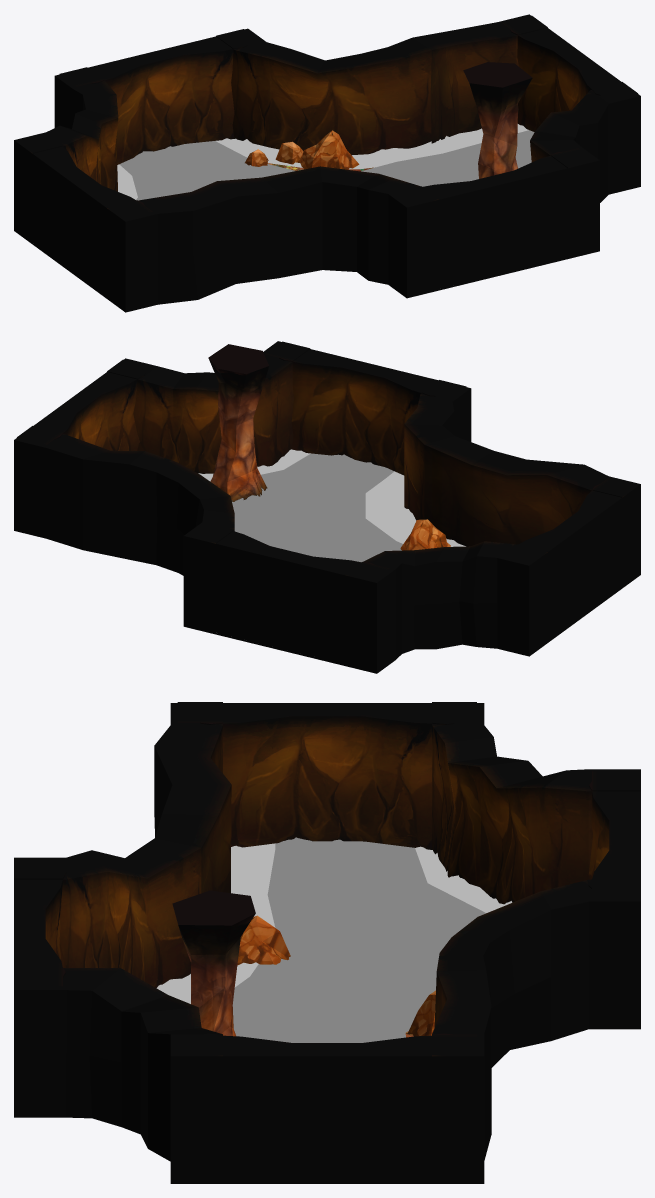
Rendered from Dungeon_062_RoadX_001.fbx.
3 views of the same model, one above another, from view 1: azimuth 30°, elevation 25°; view 2: azimuth 150°, elevation 25°; view 3: azimuth 270°, elevation 25° (orthographic). The views are drawn at different scales.
Visible parts, largest first — view 1: Dun_062_RoadX_001_wall, Dun_062_Door_002 (×4), Dun_062_RoadX_001_Nav, Dungeon_062_Object_04_Pillar, Dun_062_RoadX_001_shadow, Dun_062_Object_100; view 2: Dun_062_RoadX_001_wall, Dun_062_Door_002 (×4), Dun_062_RoadX_001_Nav, Dungeon_062_Object_04_Pillar, Dun_062_RoadX_001_shadow, Dungeon_062_Object_03_Rock; view 3: Dun_062_RoadX_001_wall, Dun_062_Door_002 (×4), Dun_062_RoadX_001_Nav, Dungeon_062_Object_04_Pillar, Dun_062_RoadX_001_shadow, Dungeon_062_Object_03_Rock, Dun_062_Object_100.
Boxes of the visible parts, bbox=[...] form: Dun_062_RoadX_001_wall: bbox=[14, 14, 640, 312]; Dun_062_Door_002 (×4): bbox=[17, 15, 637, 298]; Dun_062_RoadX_001_Nav: bbox=[119, 130, 534, 200]; Dungeon_062_Object_04_Pillar: bbox=[463, 62, 532, 178]; Dun_062_RoadX_001_shadow: bbox=[117, 124, 528, 199]; Dun_062_Object_100: bbox=[275, 130, 359, 169]; Dun_062_RoadX_001_wall: bbox=[14, 341, 640, 673]; Dun_062_Door_002 (×4): bbox=[17, 341, 637, 665]; Dun_062_RoadX_001_Nav: bbox=[232, 453, 402, 562]; Dungeon_062_Object_04_Pillar: bbox=[208, 344, 268, 501]; Dun_062_RoadX_001_shadow: bbox=[198, 449, 465, 546]; Dungeon_062_Object_03_Rock: bbox=[400, 519, 450, 550]; Dun_062_RoadX_001_wall: bbox=[14, 703, 640, 1183]; Dun_062_Door_002 (×4): bbox=[14, 702, 640, 1183]; Dun_062_RoadX_001_Nav: bbox=[232, 837, 485, 1042]; Dungeon_062_Object_04_Pillar: bbox=[172, 890, 255, 1036]; Dun_062_RoadX_001_shadow: bbox=[156, 843, 512, 1003]; Dungeon_062_Object_03_Rock: bbox=[237, 915, 290, 965]; Dun_062_Object_100: bbox=[407, 990, 435, 1036].
Size of the model in its own units: 12 by 2.96 by 9.
